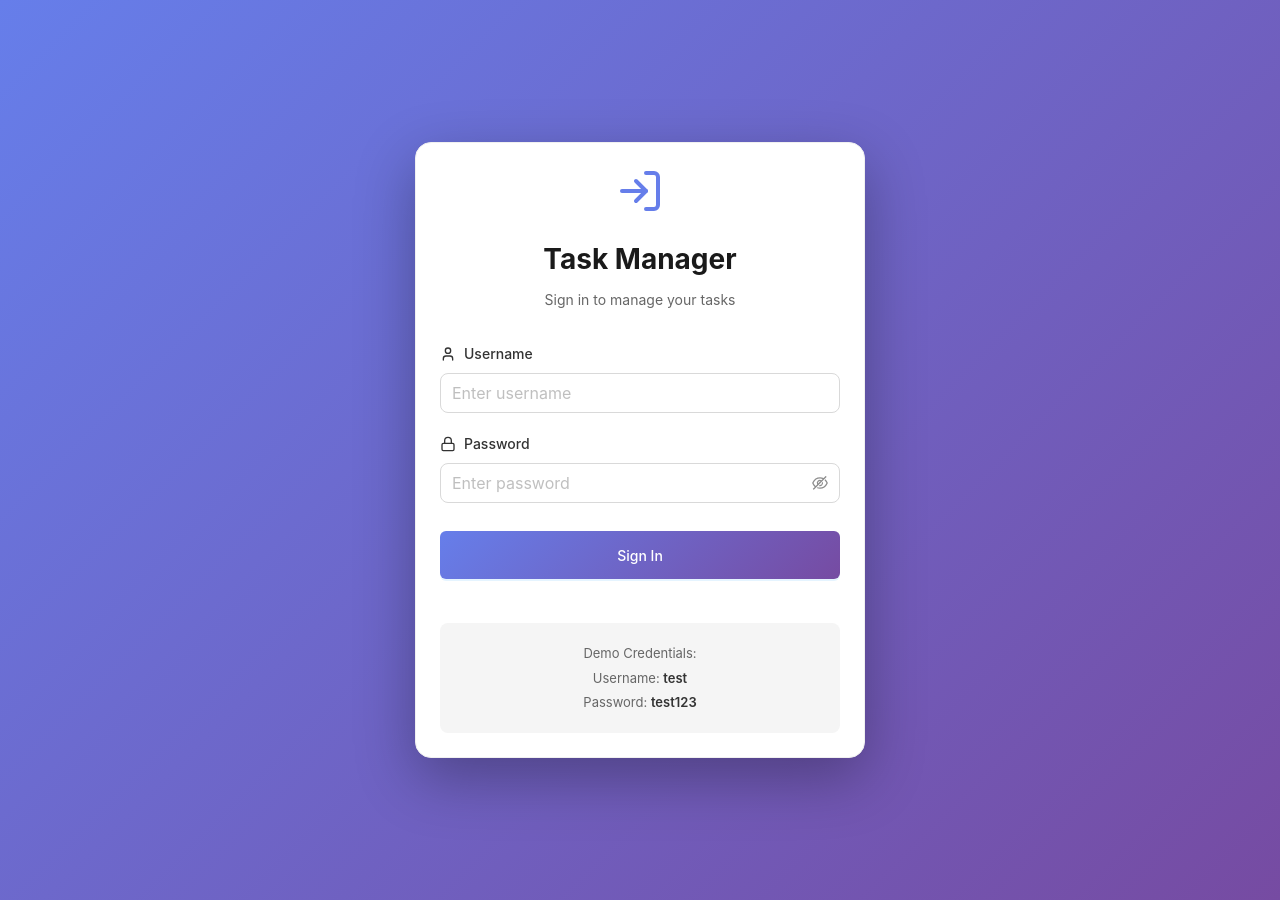
Test: Login › should show validation error for short username
Type "ab" into the field labelled "Username" at (640, 393), box 440,373 -> 840,413
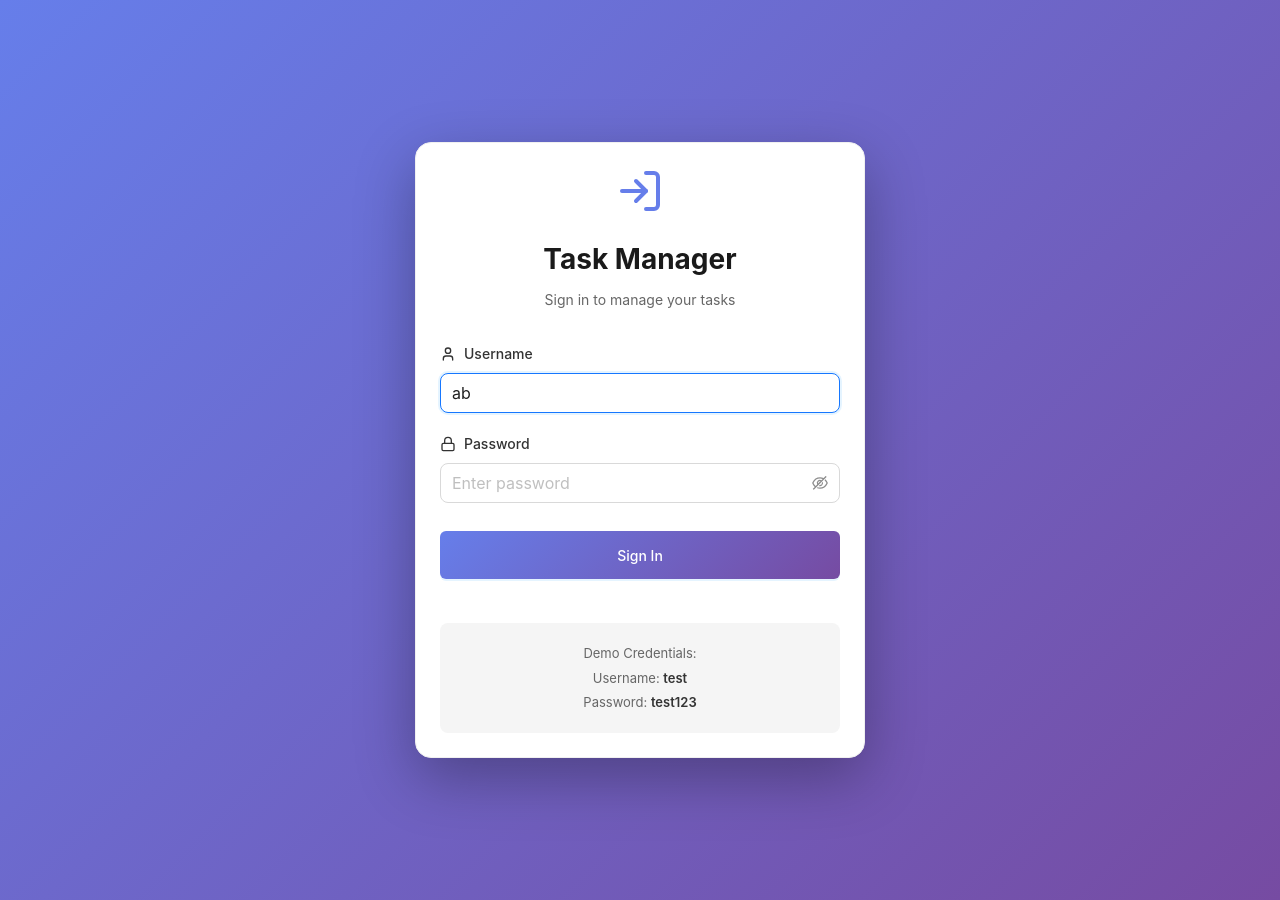
Click the button "Sign In" at (640, 555), box 440,531 -> 840,579
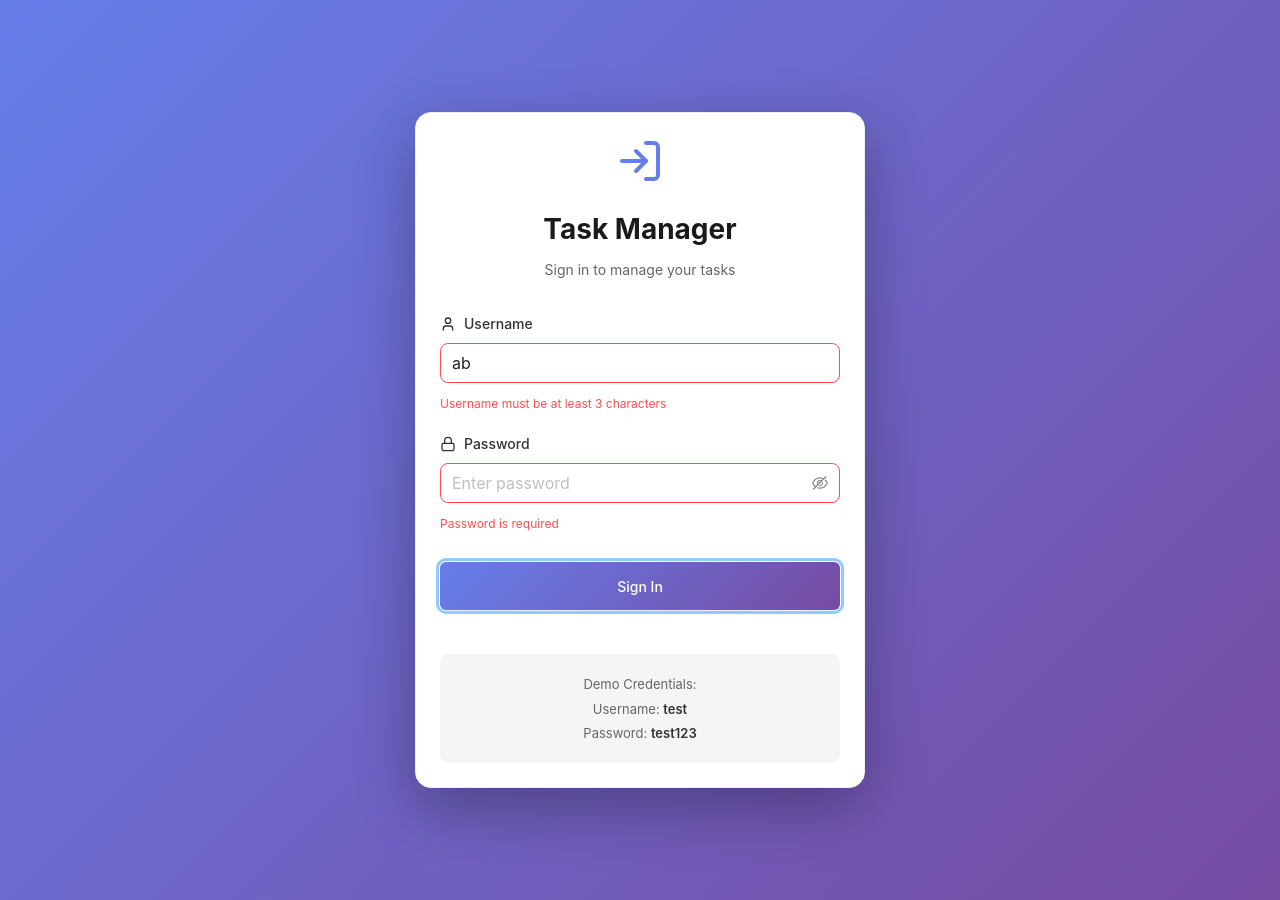
Expected: the text "Username must be at least 3 characters" is shown, 440,396 -> 666,410
